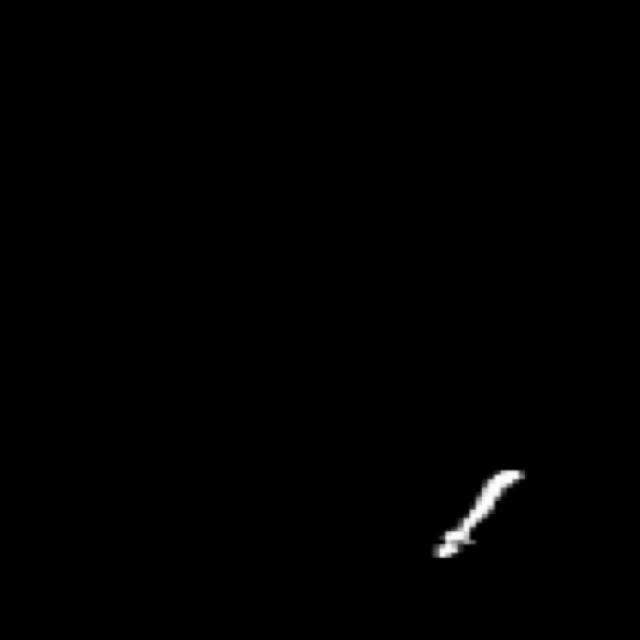one -1-: (415, 459, 542, 565)
